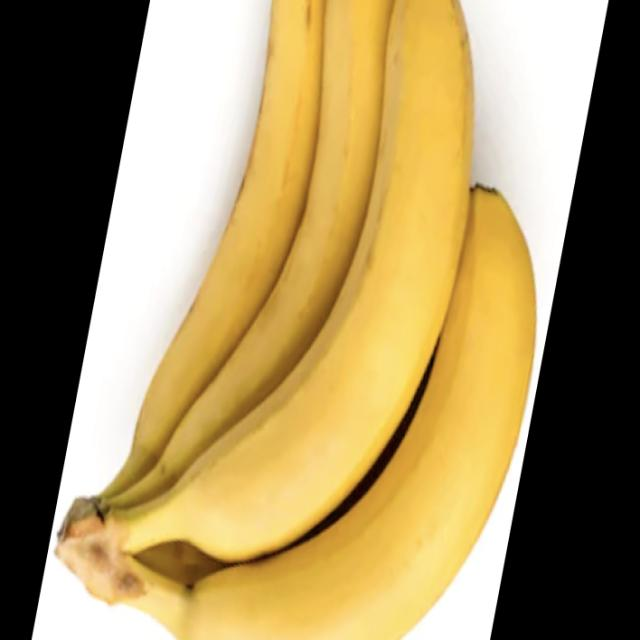god quality banana: (56, 3, 536, 639)
